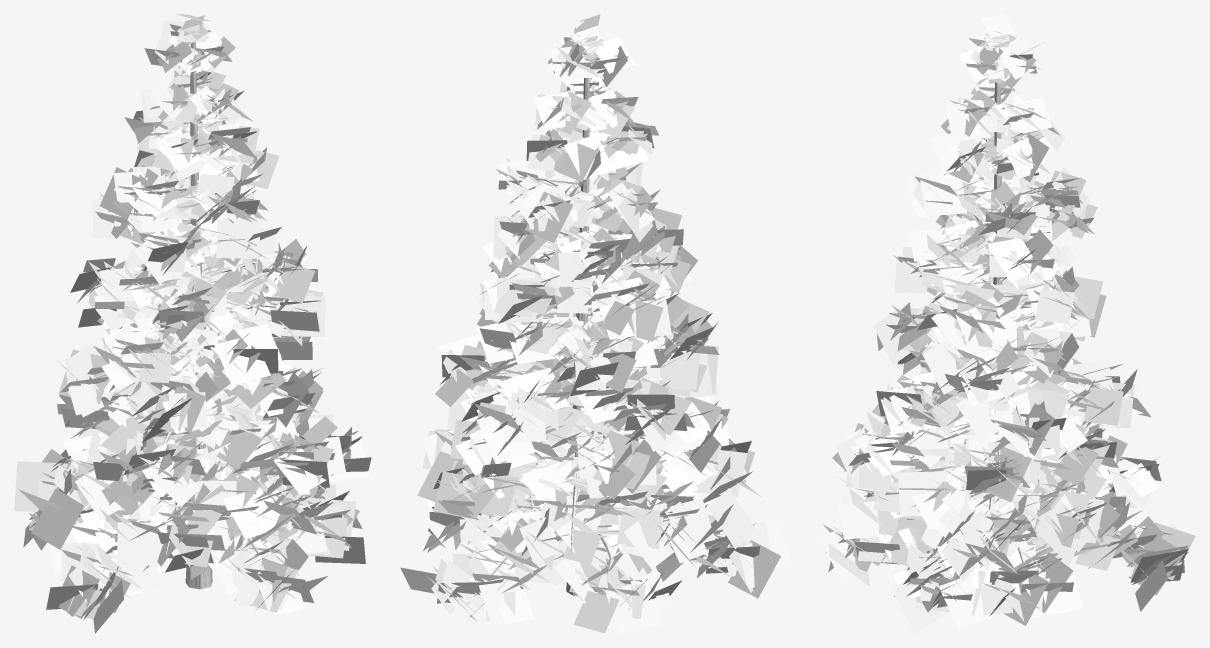
Rendered from IL3DN_style_Pine02_seed17.fbx.
3 views of the same model, side by side, from view 1: azimuth 30°, elevation 25°; view 2: azimuth 150°, elevation 25°; view 3: azimuth 270°, elevation 25° (orthographic).
Parts seen in each view (by area): view 1: StylizedPine_Needles, StylizedPine_Trunk; view 2: StylizedPine_Needles, StylizedPine_Trunk; view 3: StylizedPine_Needles, StylizedPine_Trunk.
Part boxes in pixels (x1,y1,x2,y2): StylizedPine_Needles: (14, 14, 371, 633); StylizedPine_Trunk: (75, 42, 307, 589); StylizedPine_Needles: (400, 14, 791, 633); StylizedPine_Trunk: (451, 53, 732, 609); StylizedPine_Needles: (820, 14, 1195, 633); StylizedPine_Trunk: (854, 61, 1149, 595).
Size of the model in its own units: 5.36 by 8.88 by 5.31.
Materials: 2 (2 with a texture image).
